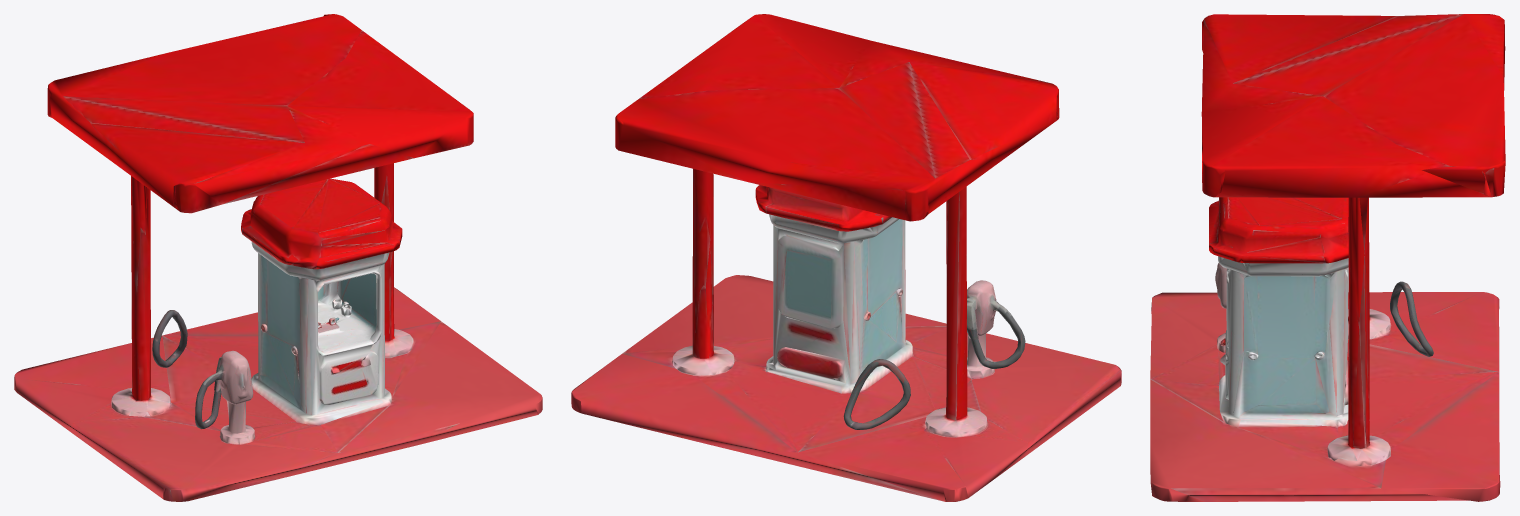
Rendered from gas-station-512.glb.
3 views of the same model, side by side, from view 1: azimuth 30°, elevation 25°; view 2: azimuth 150°, elevation 25°; view 3: azimuth 270°, elevation 25° (orthographic). The views are drawn at different scales.
Size of the model in its own units: 1.9 by 1.4 by 1.44.
1 material, 1 textured.
